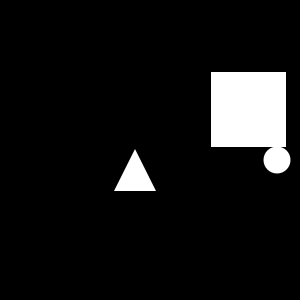circle: (211, 72, 286, 147)
rectangle: (264, 146, 290, 174)
triangle: (114, 149, 156, 191)
